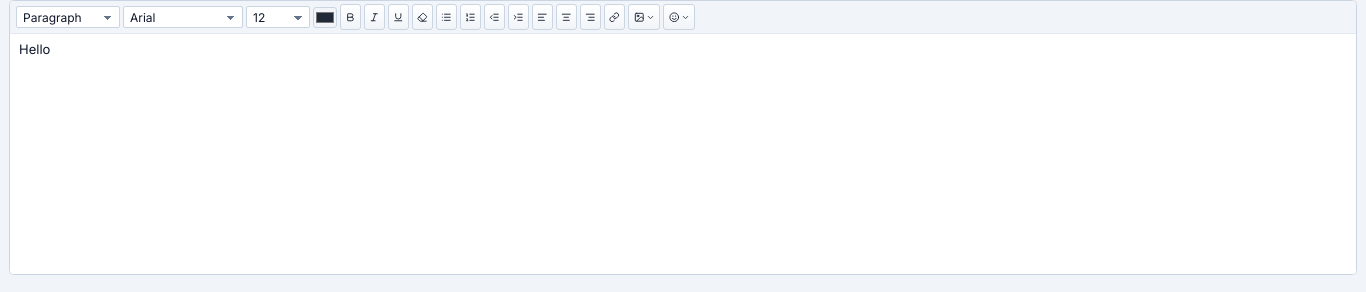
Test: RichMailEditor › opens a full editing context menu with Markdown and plain-text paste
Right-click the field with test id "mail-compose-editor": (683, 154) [10,34,1356,274]
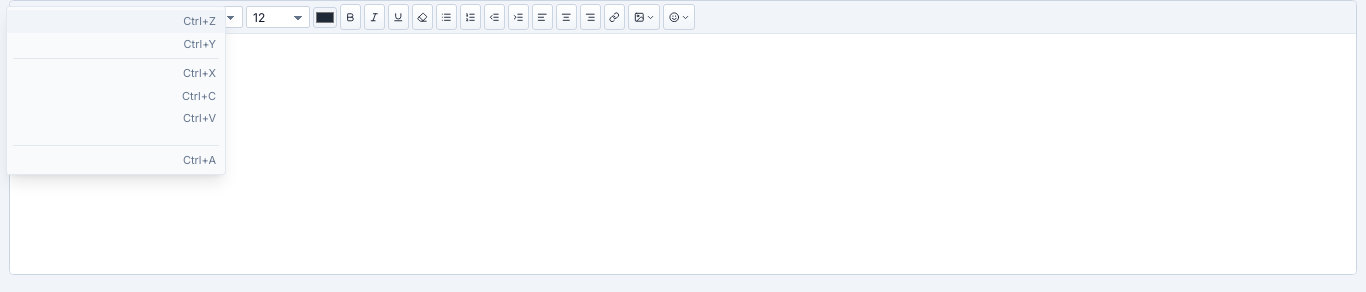
Expected: the button with test id "mail-compose-context-undo" is shown, [7,10,225,32]
Expected: the button with test id "mail-compose-context-copy" is shown, [7,84,225,107]
Expected: the button with test id "mail-compose-context-paste" is shown, [7,107,225,130]
